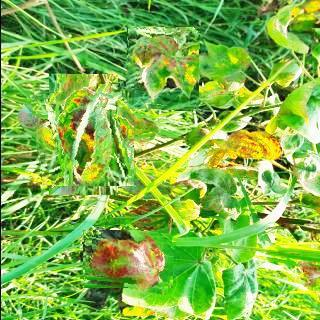blight: (32, 84, 133, 186), (125, 27, 198, 110), (81, 230, 173, 292)
